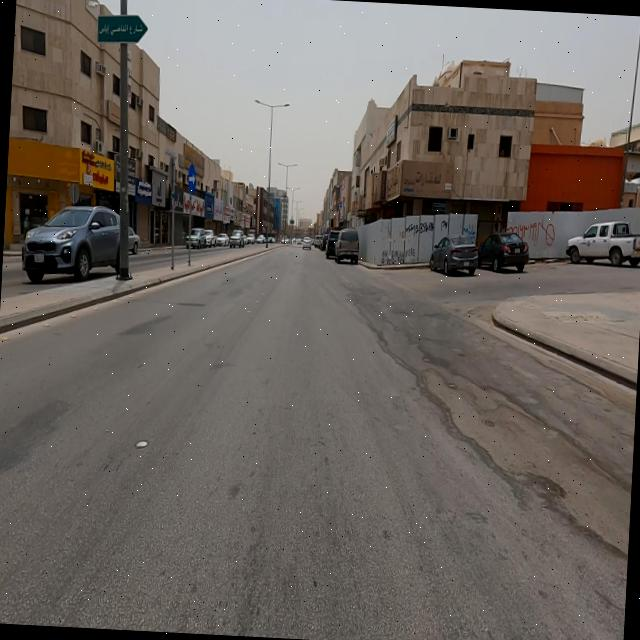Graffiti: (382, 246, 418, 269), (509, 222, 557, 237), (406, 222, 435, 238), (528, 235, 557, 249), (463, 228, 477, 241), (398, 231, 407, 241), (442, 221, 450, 231)
